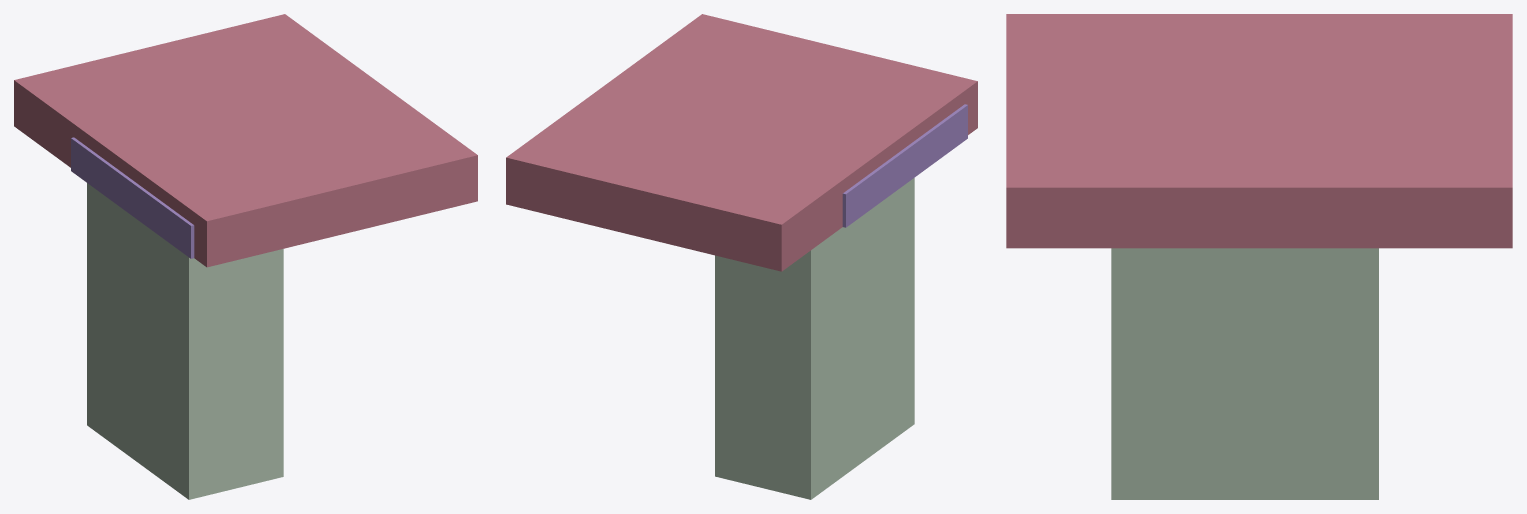
Rendered from 199509_pred.glb.
3 views of the same model, side by side, from view 1: azimuth 30°, elevation 25°; view 2: azimuth 150°, elevation 25°; view 3: azimuth 270°, elevation 25° (orthographic). The views are drawn at different scales.
Parts seen in each view (by area): view 1: world; view 2: world; view 3: world.
Boxes of the visible parts, x1,y1,x2,y2 form: world: [14, 14, 477, 499]; world: [506, 14, 977, 499]; world: [1006, 14, 1512, 499].
Size of the model in its own units: 4.35 by 4.75 by 5.3.
